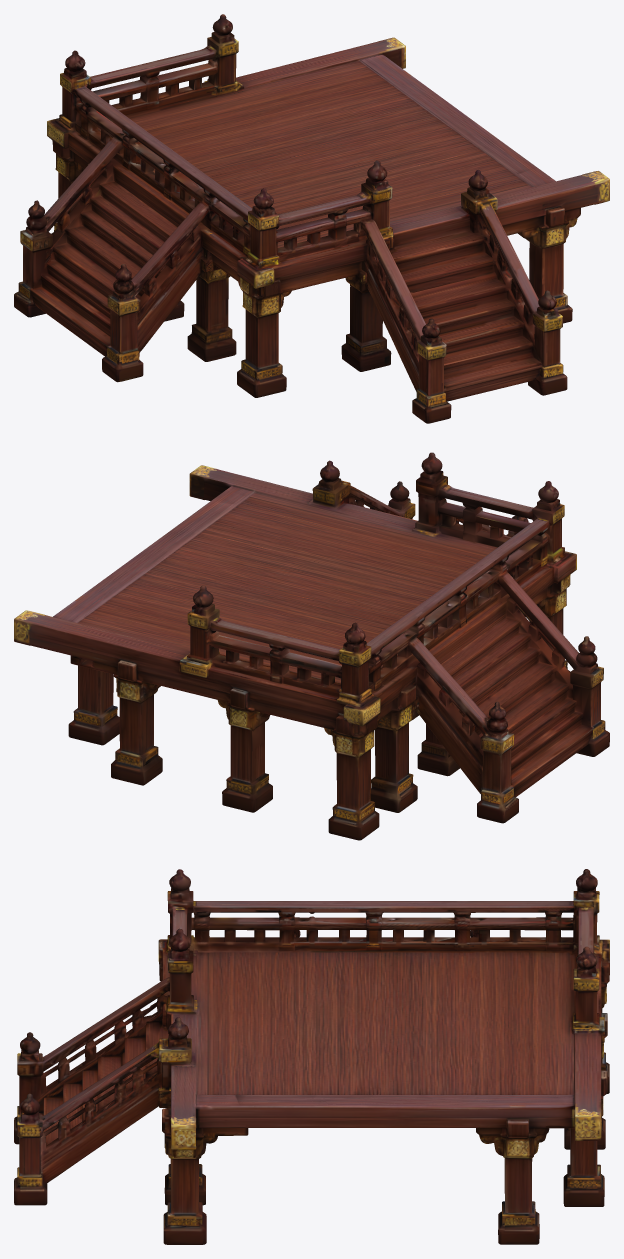
The model's file is SingleStareBase_Collision.fbx.
The picture shows the model from 3 angles, top to bottom: view 1: azimuth 30°, elevation 25°; view 2: azimuth 150°, elevation 25°; view 3: azimuth 270°, elevation 25°; orthographic projection. The views are drawn at different scales.
Parts seen in each view (by area): view 1: SingleStareBase_Collision; view 2: SingleStareBase_Collision; view 3: SingleStareBase_Collision.
Boxes of the visible parts, bbox=[...] form: SingleStareBase_Collision: bbox=[14, 14, 609, 423]; SingleStareBase_Collision: bbox=[14, 452, 609, 840]; SingleStareBase_Collision: bbox=[14, 869, 609, 1244].
Bounding box in the file's own units: 7.75 × 3.34 × 8.3.
1 material, 1 textured.
